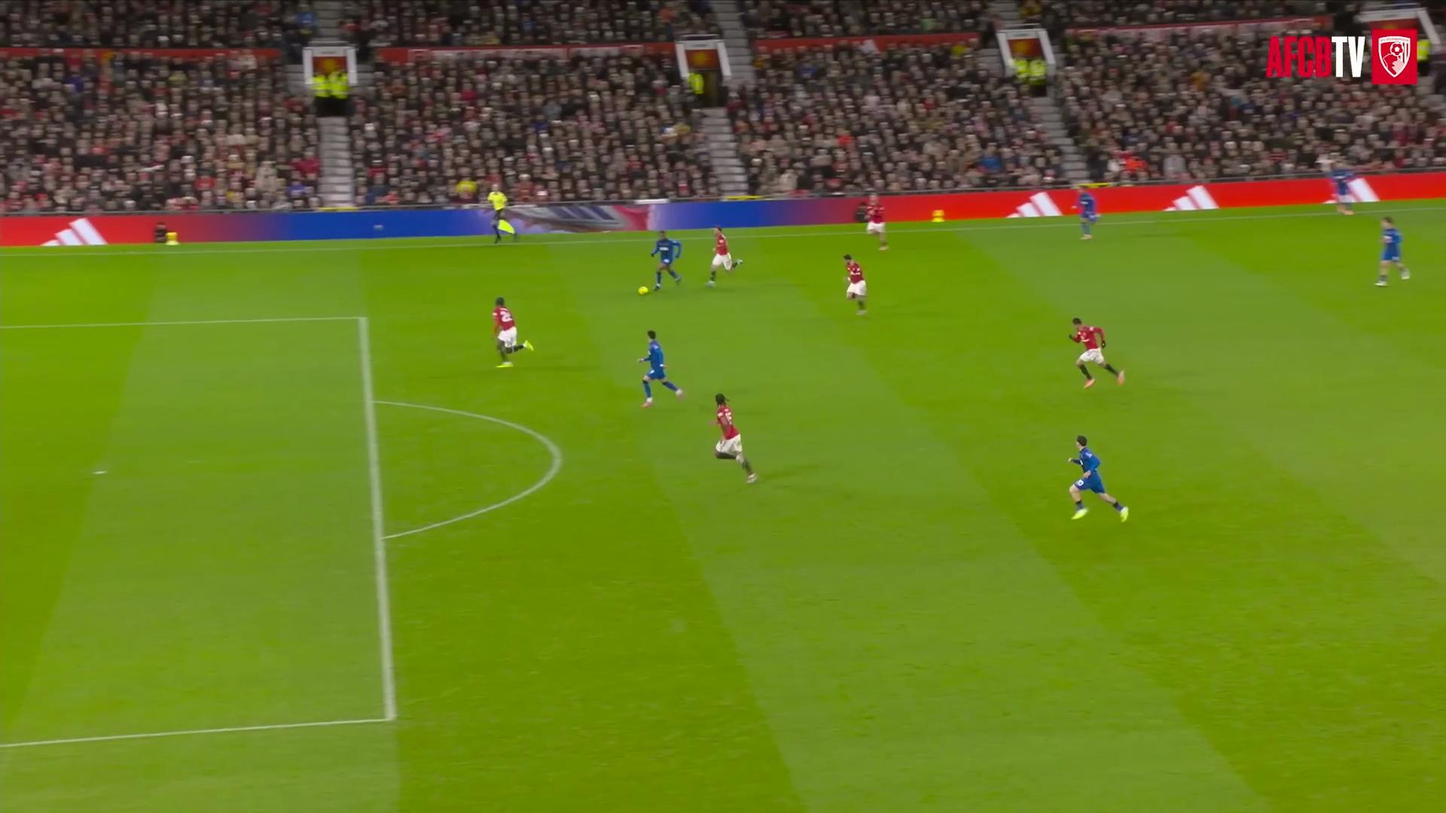football: (638, 286, 648, 294)
player: (1069, 436, 1128, 521), (1071, 318, 1124, 387), (715, 393, 756, 481), (639, 330, 682, 407), (493, 297, 532, 367), (1376, 218, 1409, 286), (706, 226, 742, 286), (650, 231, 682, 290), (1326, 166, 1356, 215), (1072, 185, 1098, 239), (843, 254, 866, 315), (865, 194, 887, 250)
referee: (487, 184, 517, 243)
